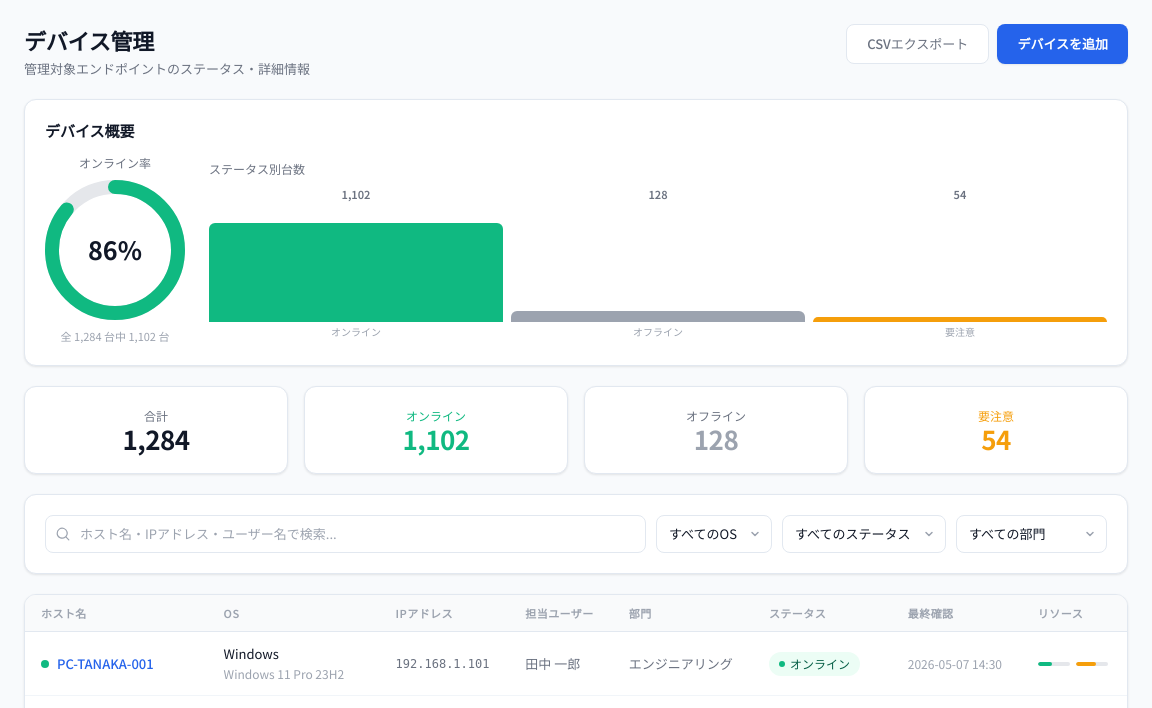
it: DevicesPage - ステータスフィルター › maintenance フィルターを選択するとメンテナンスデバイスだけが表示される
Select "メンテナンス" in the 2nd dropdown showing "すべてのステータス" at (864, 534), box [782,515,946,553]
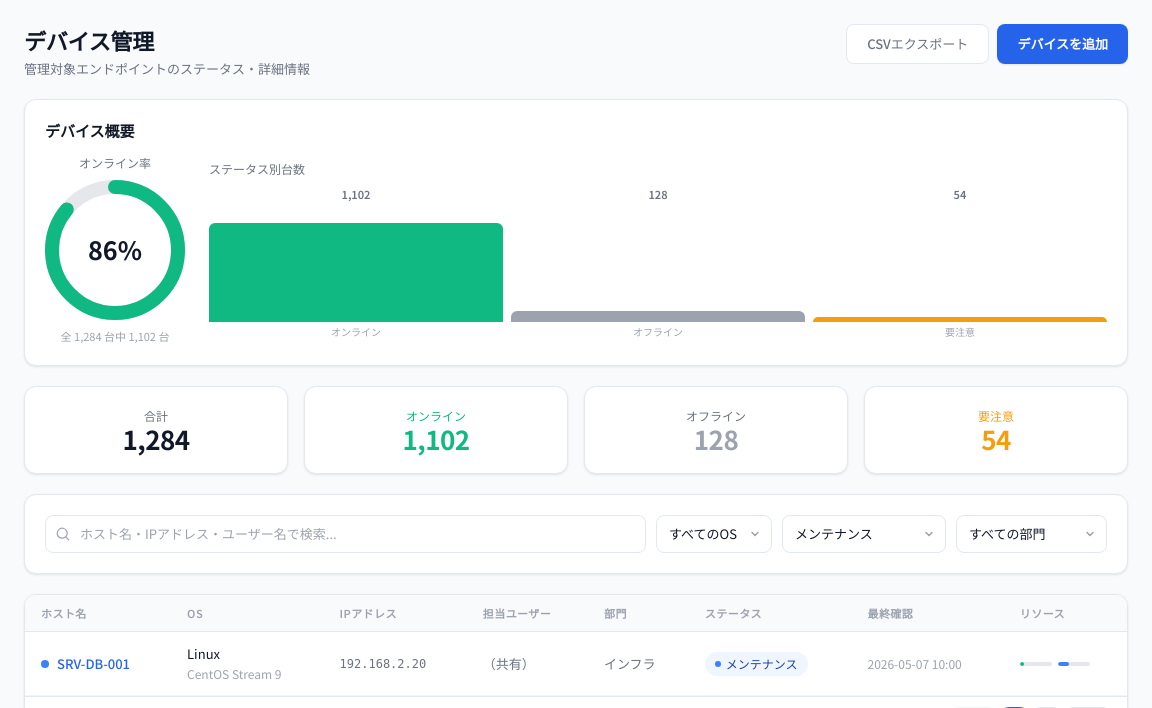
Expected: the text "SRV-DB-001" is shown, [57,654,130,673]
Expected: the text "PC-TANAKA-001" is gone
